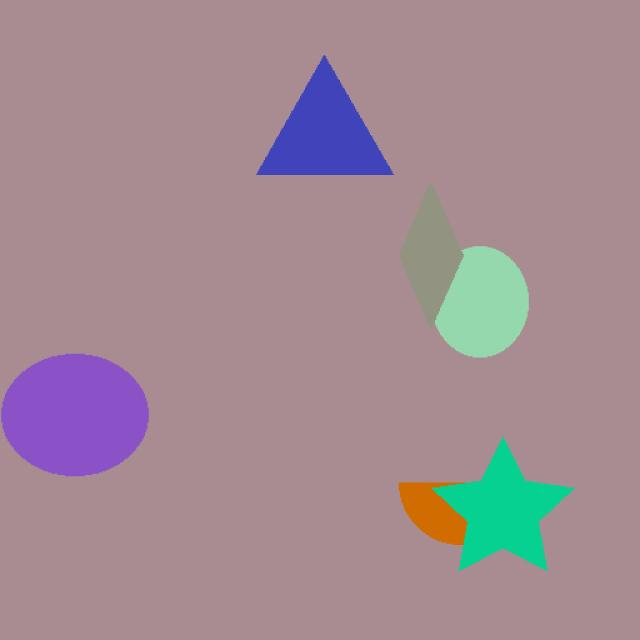Circle: (426, 234, 570, 362)
Kite: (384, 172, 476, 347)
Oval: (0, 343, 197, 497)
Semicircle: (365, 472, 549, 544)
Star: (426, 436, 567, 593)
Triangle: (248, 45, 414, 204)
